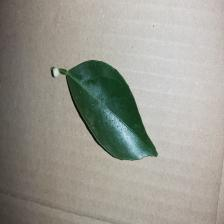healthy: (56, 56, 161, 163)
